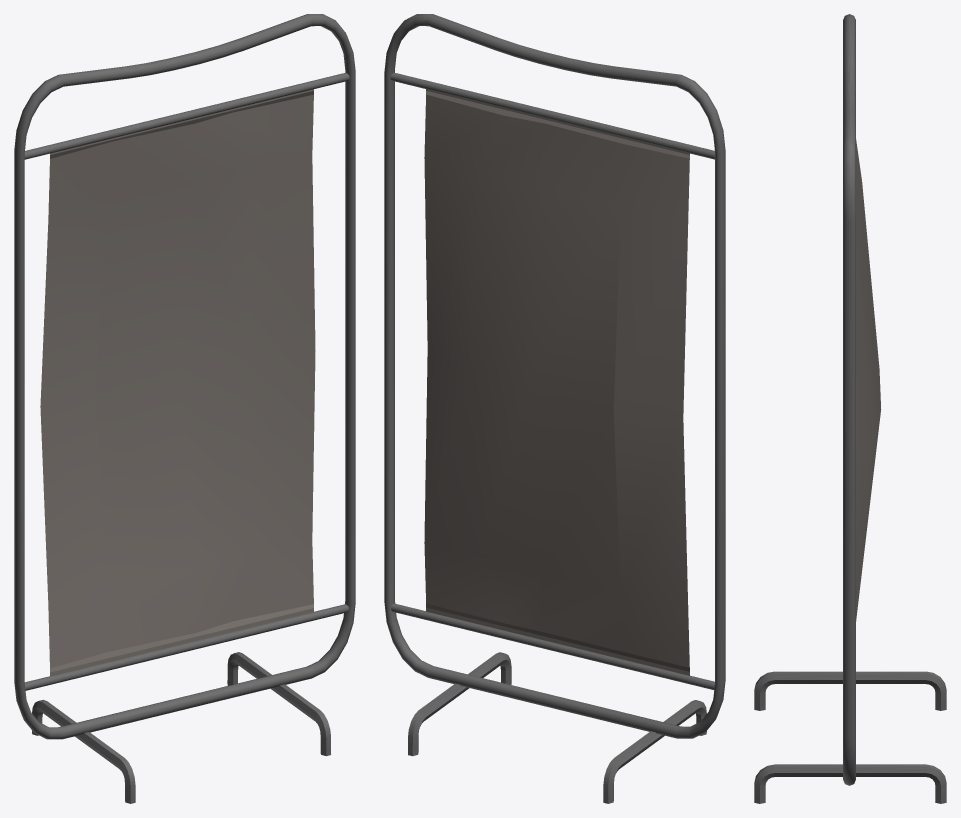
File: Partition.fbx
3 views of the same model, side by side, from view 1: azimuth 30°, elevation 25°; view 2: azimuth 150°, elevation 25°; view 3: azimuth 270°, elevation 25° (orthographic). The views are drawn at different scales.
Visible parts, largest first — view 1: Cube.120; view 2: Cube.120; view 3: Cube.120.
Part boxes in pixels (x1=…): Cube.120: x1=14, y1=14, x2=355, y2=803; Cube.120: x1=384, y1=14, x2=725, y2=803; Cube.120: x1=754, y1=14, x2=946, y2=803.
Bounding box in the file's own units: 176 × 347 × 89.
